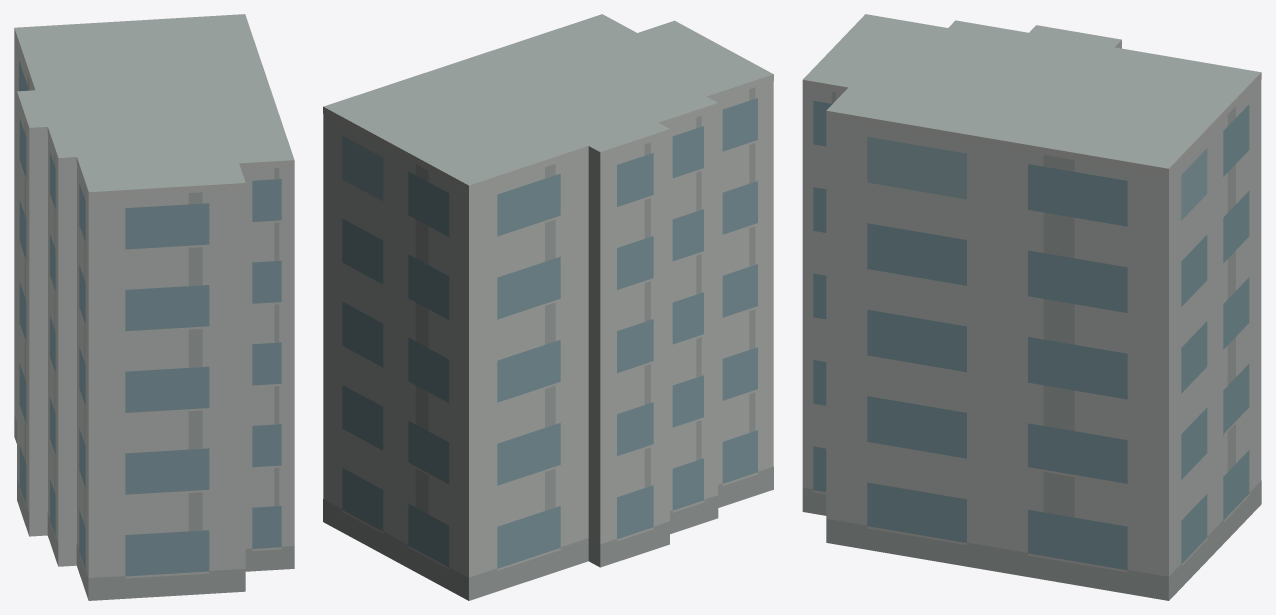
File: survey-upis-32878841.glb
The picture shows the model from 3 angles, left to right: view 1: azimuth 30°, elevation 25°; view 2: azimuth 150°, elevation 25°; view 3: azimuth 270°, elevation 25°; orthographic projection. The views are drawn at different scales.
Parts seen in each view (by area): view 1: survey-upis-32878841.tmp; view 2: survey-upis-32878841.tmp; view 3: survey-upis-32878841.tmp.
Boxes of the visible parts, box(x1,y1,x2,y2) form: survey-upis-32878841.tmp: box(14, 14, 294, 600); survey-upis-32878841.tmp: box(323, 14, 773, 600); survey-upis-32878841.tmp: box(802, 14, 1261, 600).
Bounding box in the file's own units: 11.15 × 14.5 × 13.96.
